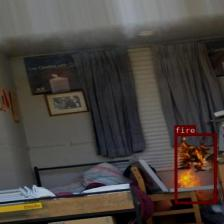fire: (174, 134, 216, 204)
